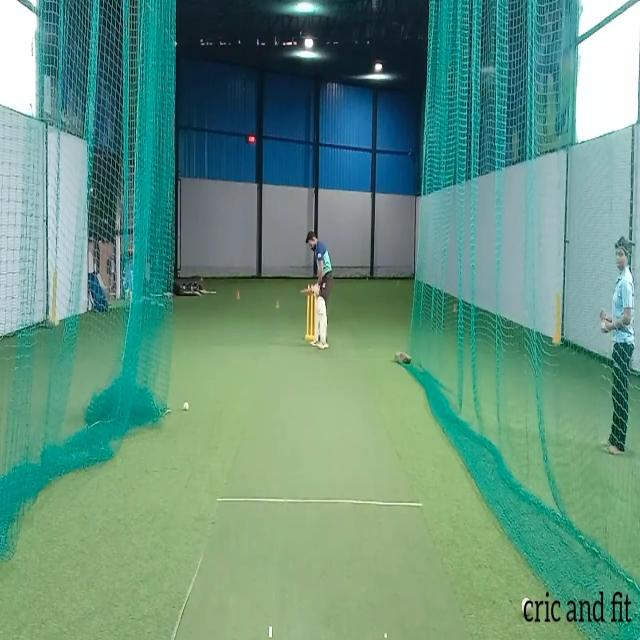batsman: (300, 228, 334, 350)
